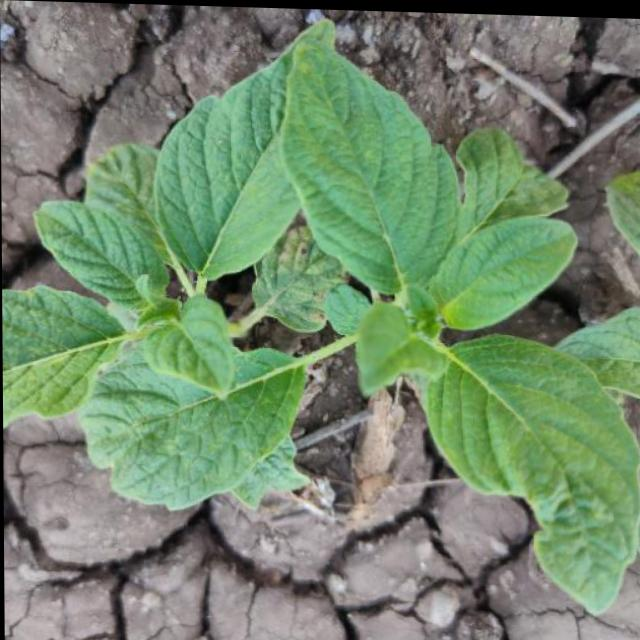crop: (25, 28, 639, 627)
